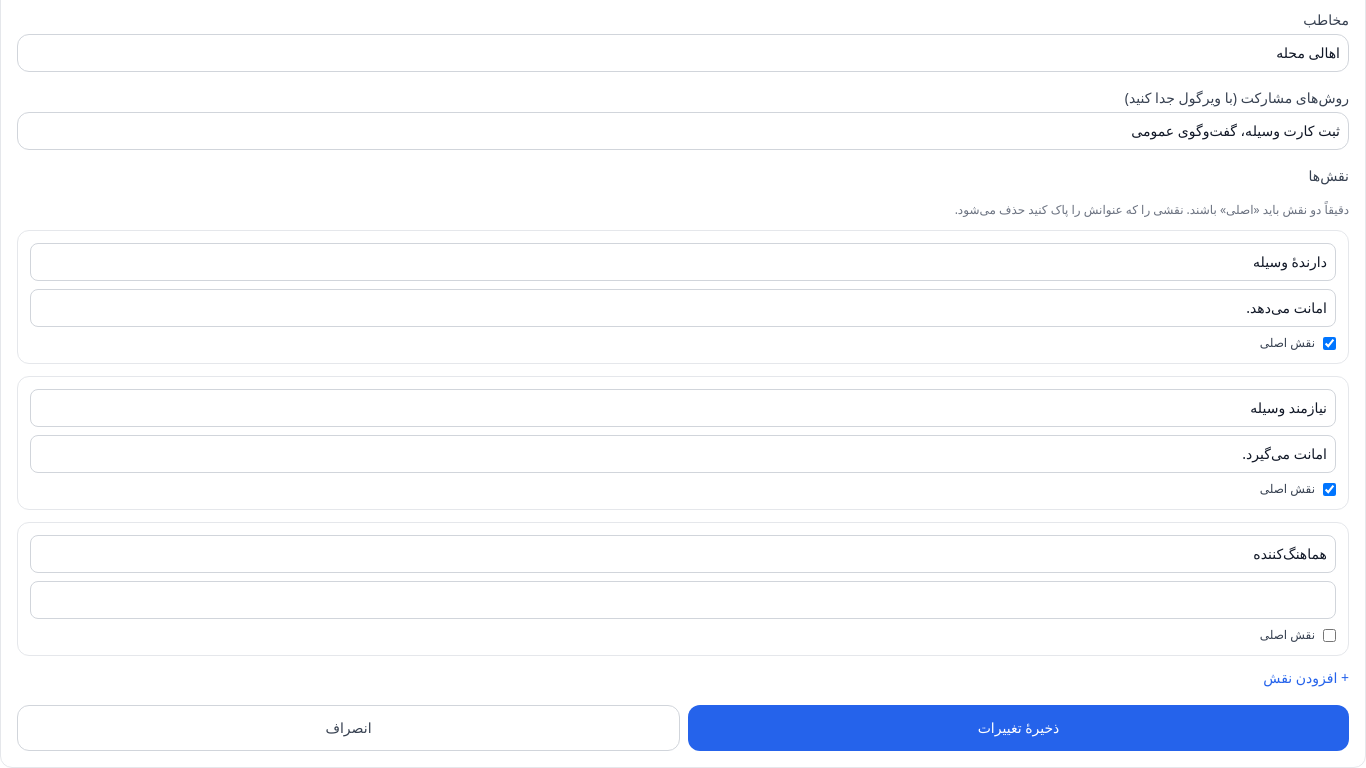
Test case: SpaceEditForm › shows why a refused edit was refused, with the rule
(page scrolled)
Click the button "ذخیرهٔ تغییرات".
click(1018, 728)  # box [688,705,1349,751]
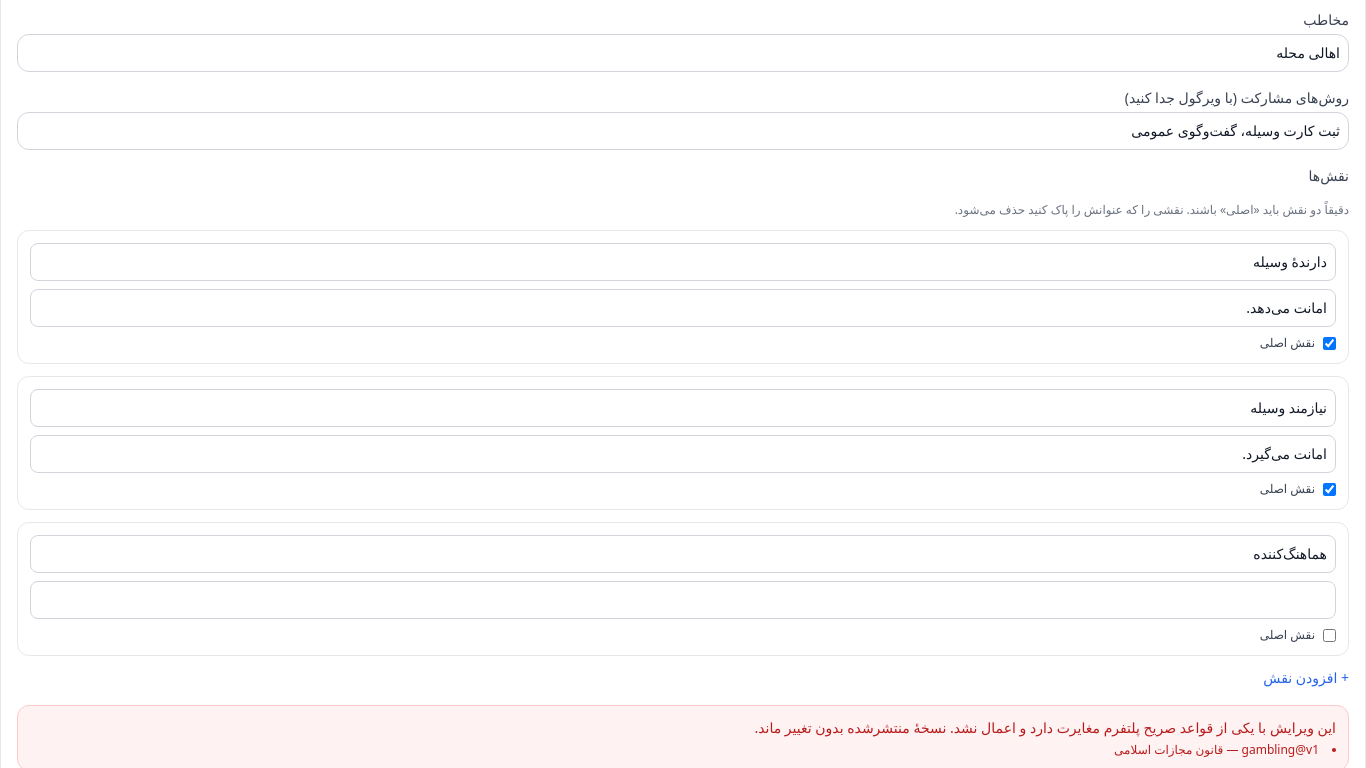
Result: the message shows "نسخهٔ منتشرشده بدون تغییر ماند" at [754,718,1336,737]
Result: the list item "gambling@v1 — قانون مجازات اسلامی" is shown at [1114,741,1319,758]
